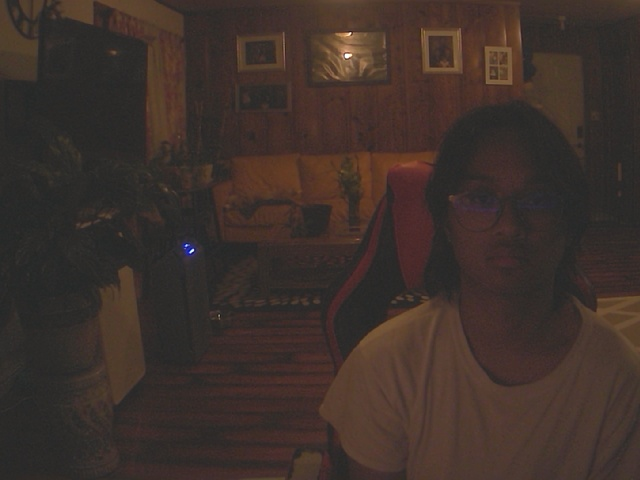neutral: (424, 99, 594, 316)
